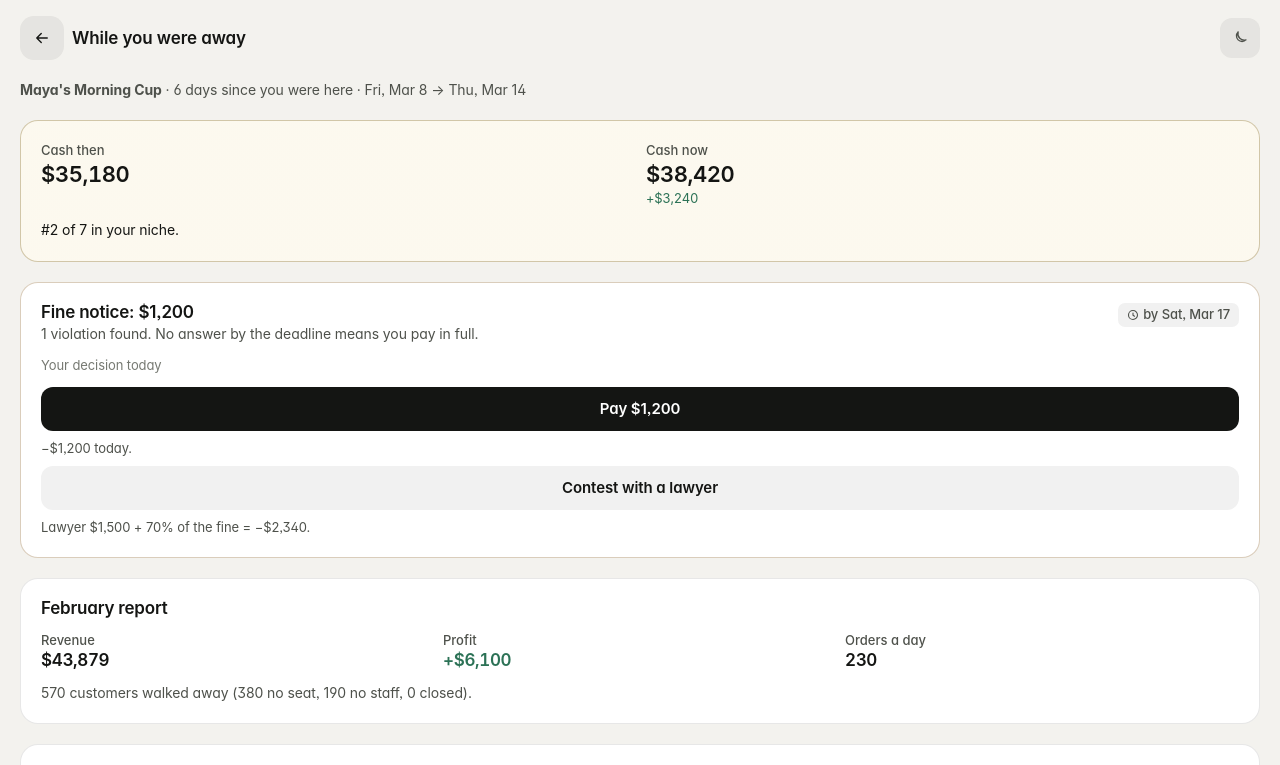
Test case: /brief on screen › a decision is taken on the page and its result is shown in words
Step 1. Click the button "Pay $1,200" → (640, 409), box x1=41 y1=387 x2=1239 y2=431
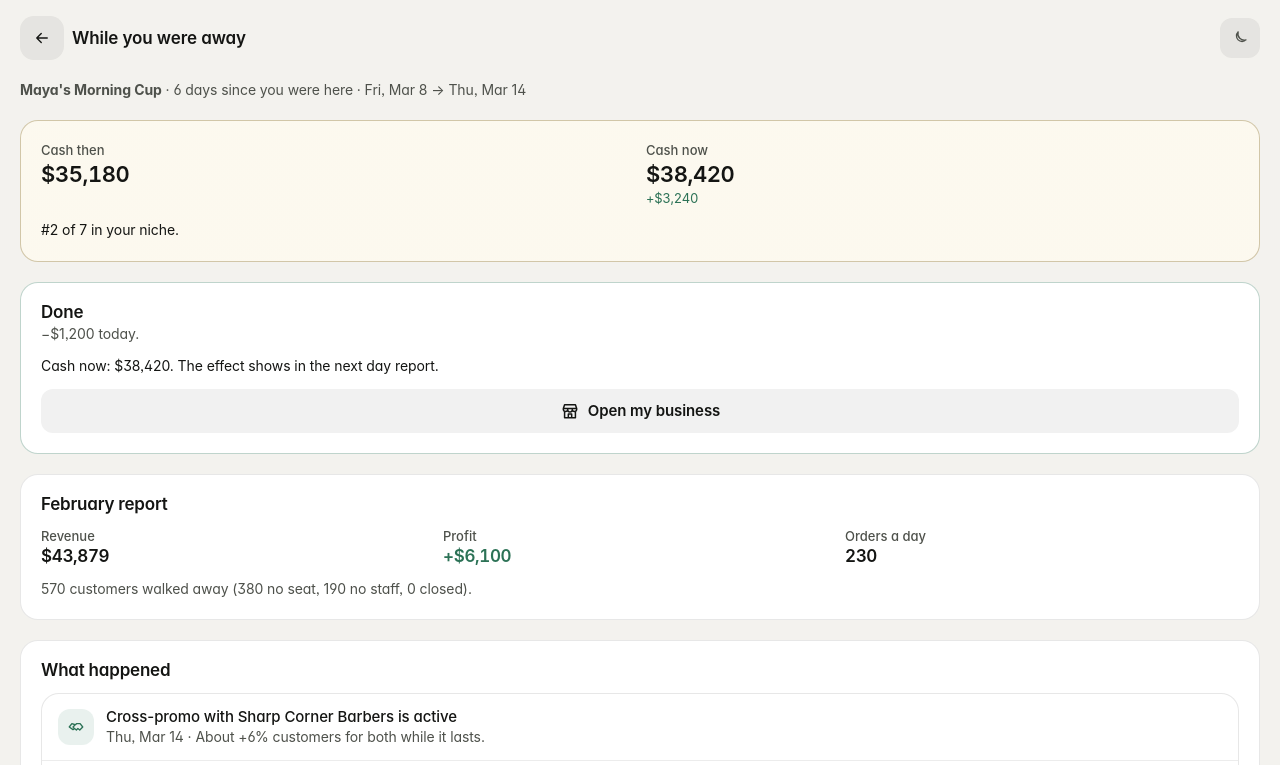
Expected: the element named "Decision made" shows "−$1,200 today", x1=41 y1=325 x2=139 y2=342
Now the element named "Decision made" is shown, box x1=20 y1=282 x2=1260 y2=454
